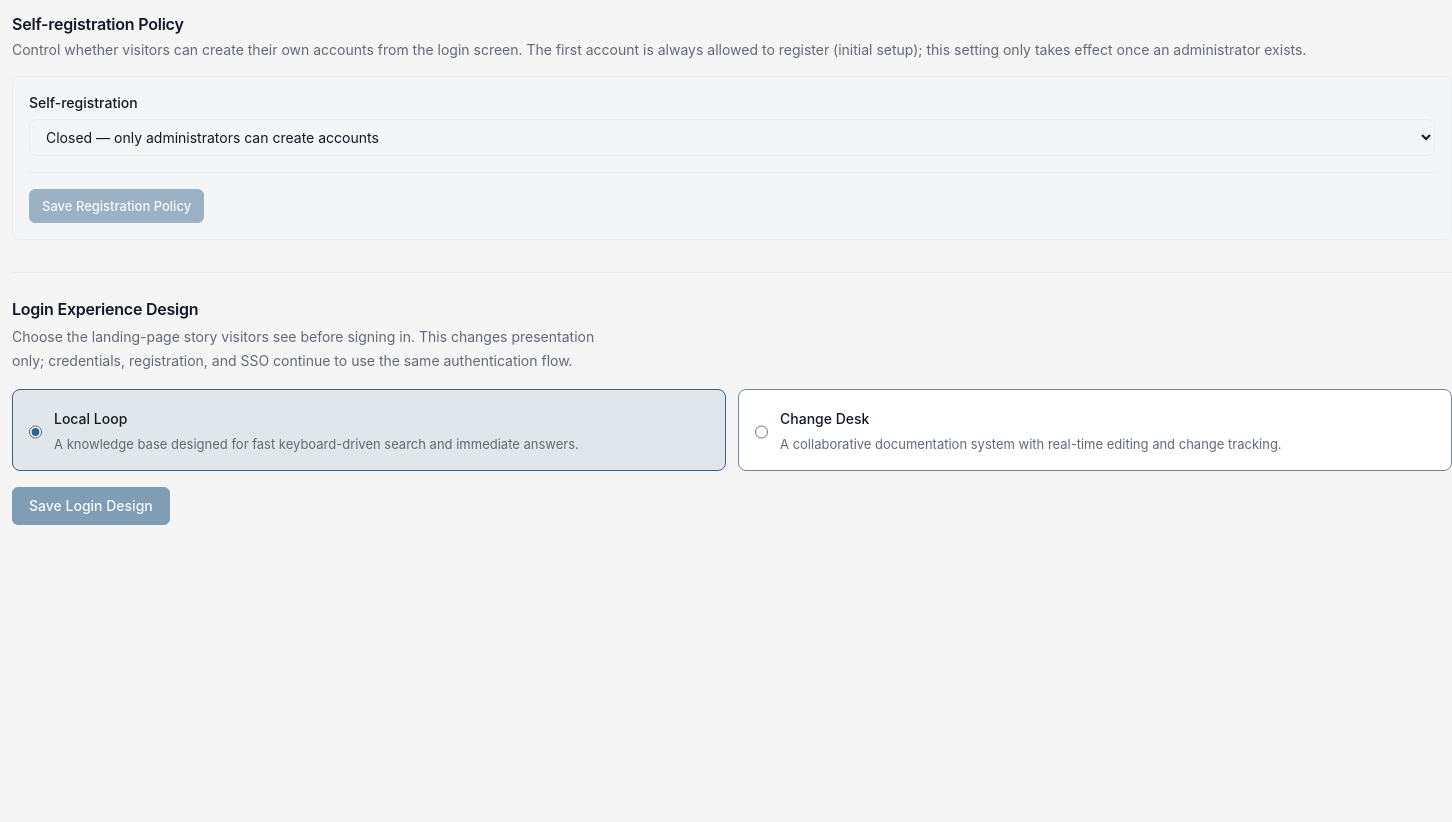
Test: RegistrationPolicyTab (#1051) › shows the shared-page warning when Open is selected
The width and height of the screenshot is (1452, 822).
Select "Open — anyone can create their own account" in the dropdown with test id "registration-mode-select": (732, 138) [29,119,1435,156]
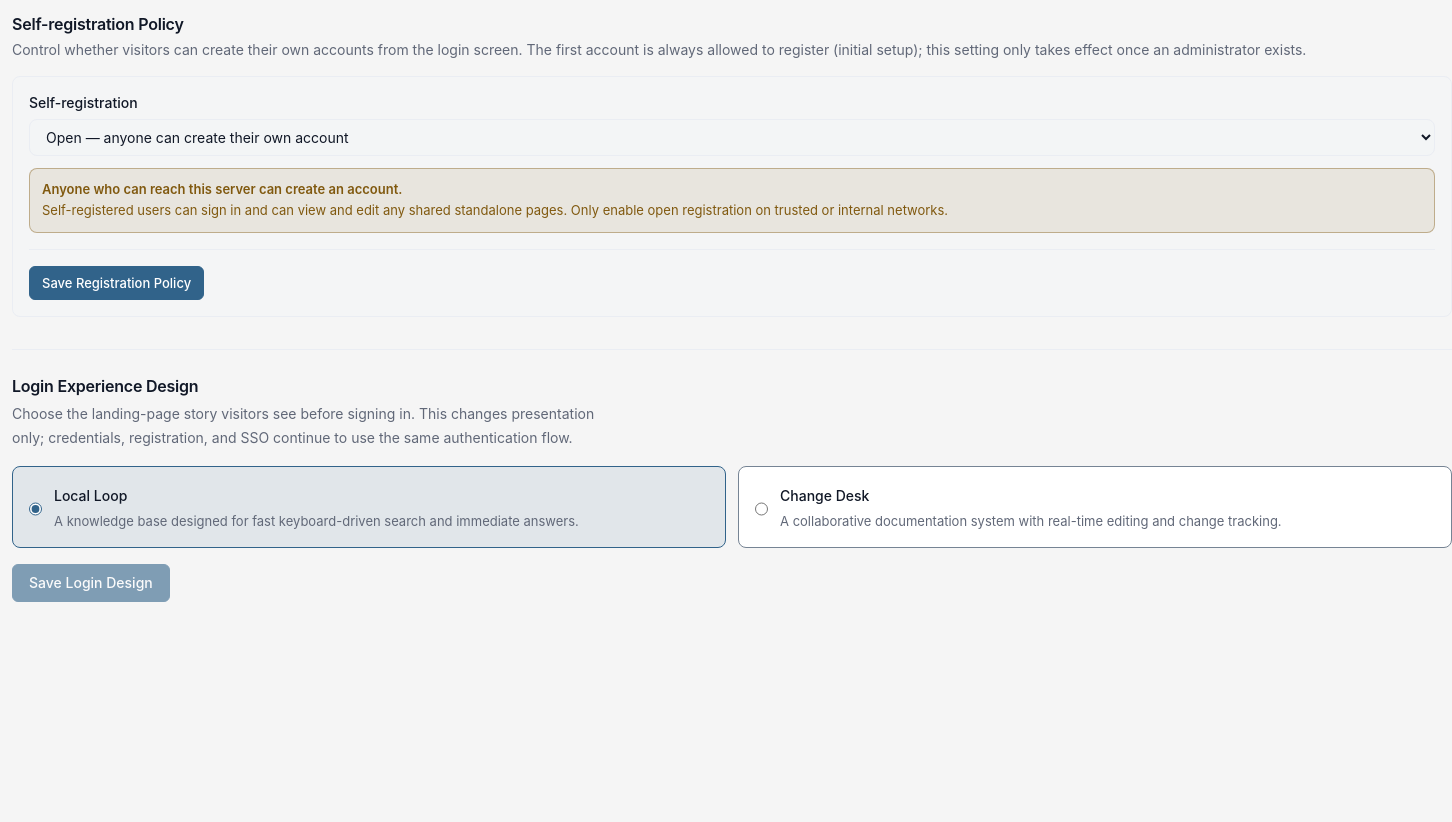
Check: the message with test id "registration-open-warning" is shown, box [29,168,1435,233]
Check: the message with test id "registration-open-warning" shows "shared standalone", box [42,202,948,218]
